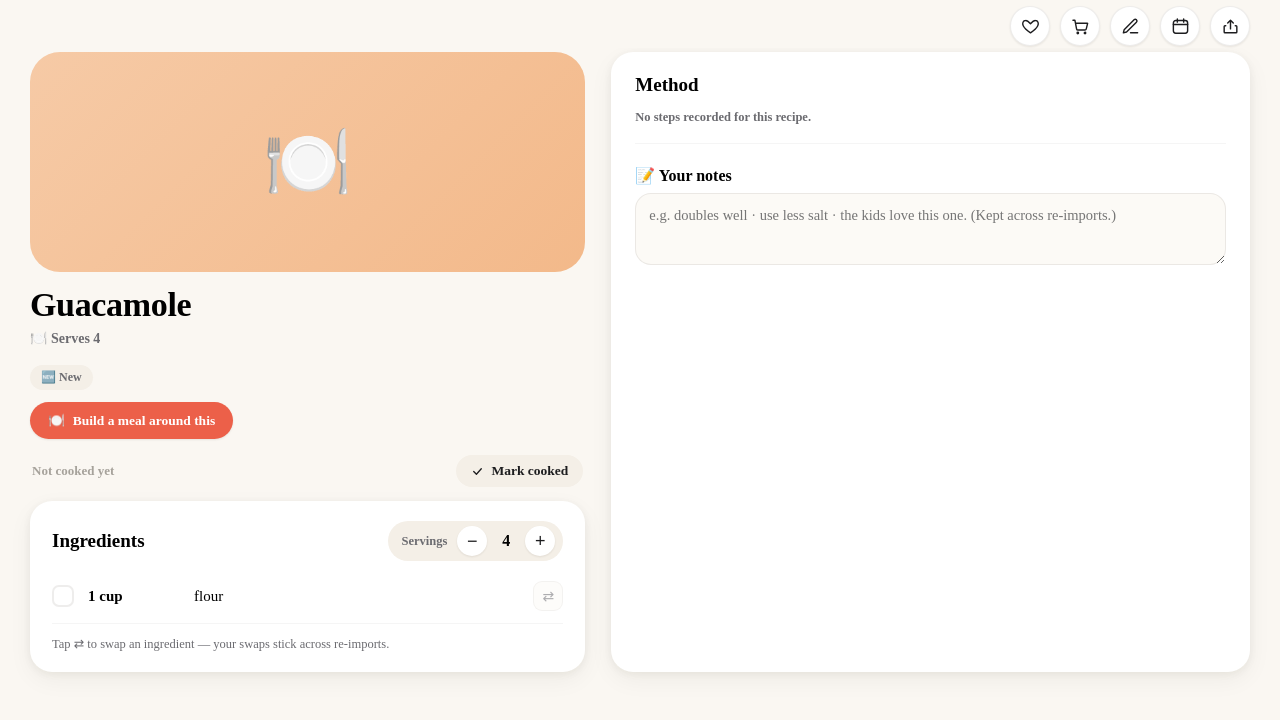
RecipeView — add ingredients to grocery › shows amounts scaled by the servings stepper, matching the page behind it
Step 1. Click the button named "More" → (540, 541), box [525,526,555,556]
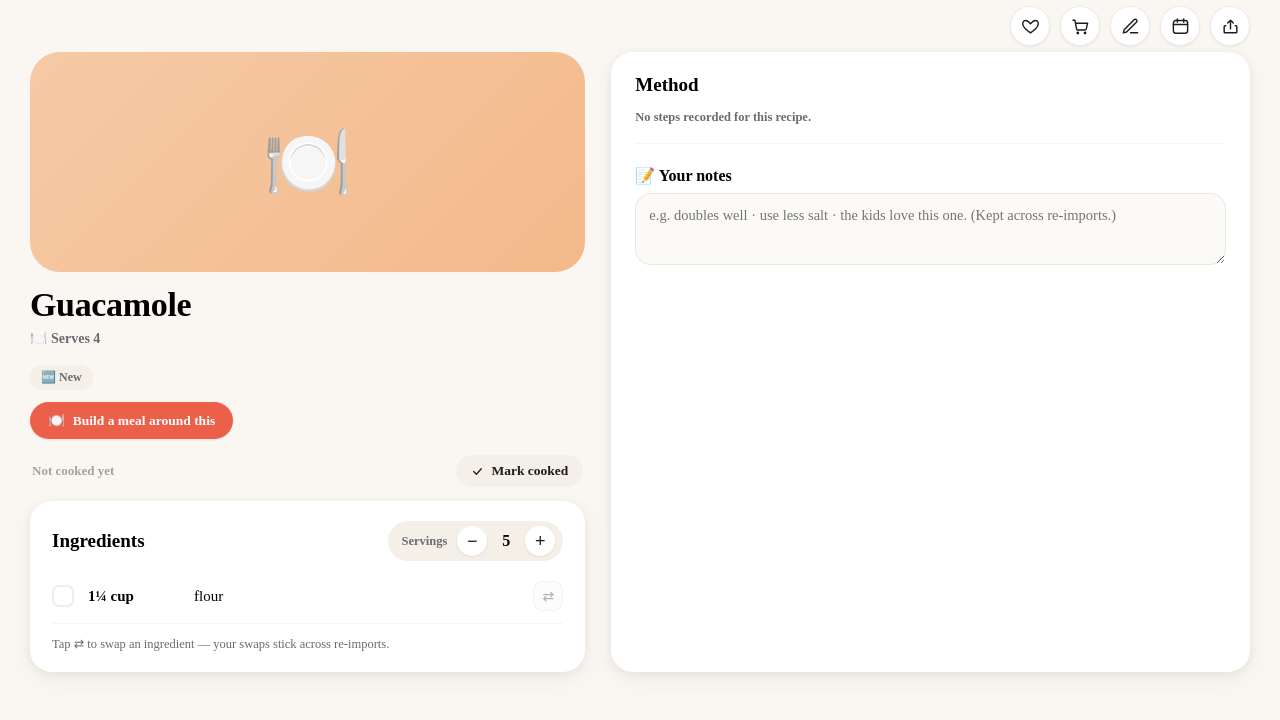
Step 2. Click the button named "More" → (540, 541), box [525,526,555,556]
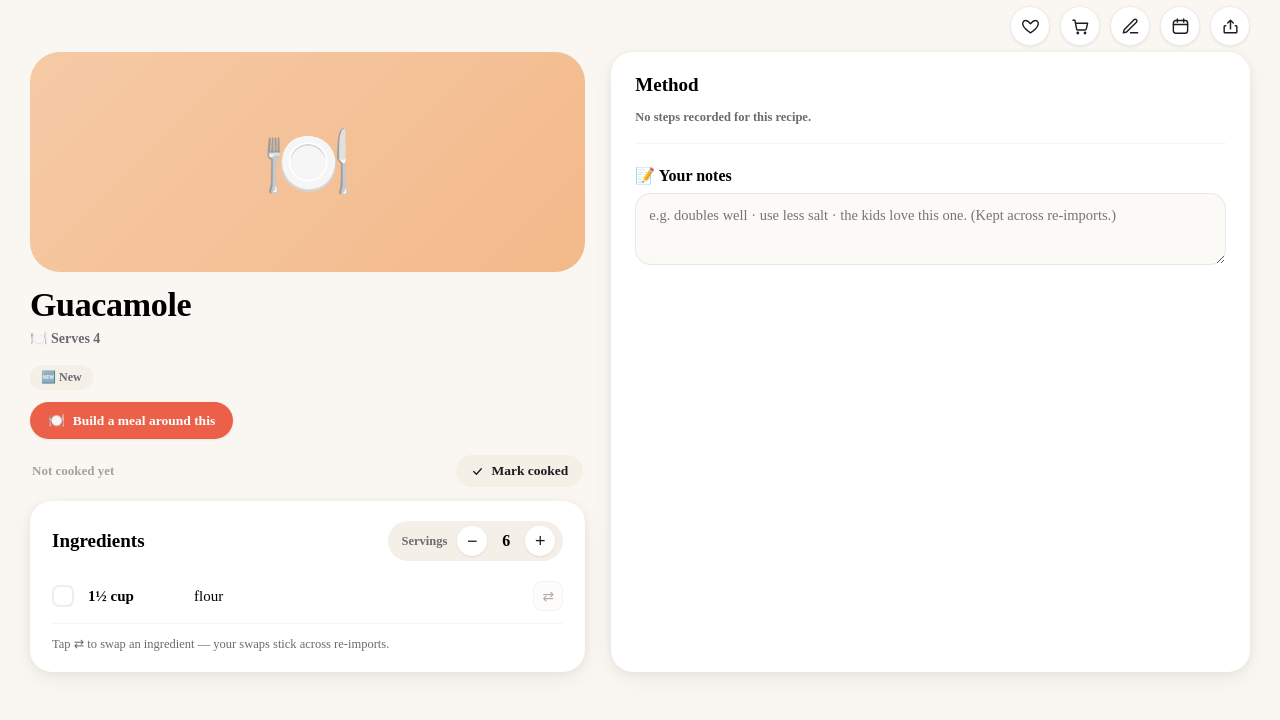
Step 3. Click the button named "More" → (540, 541), box [525,526,555,556]
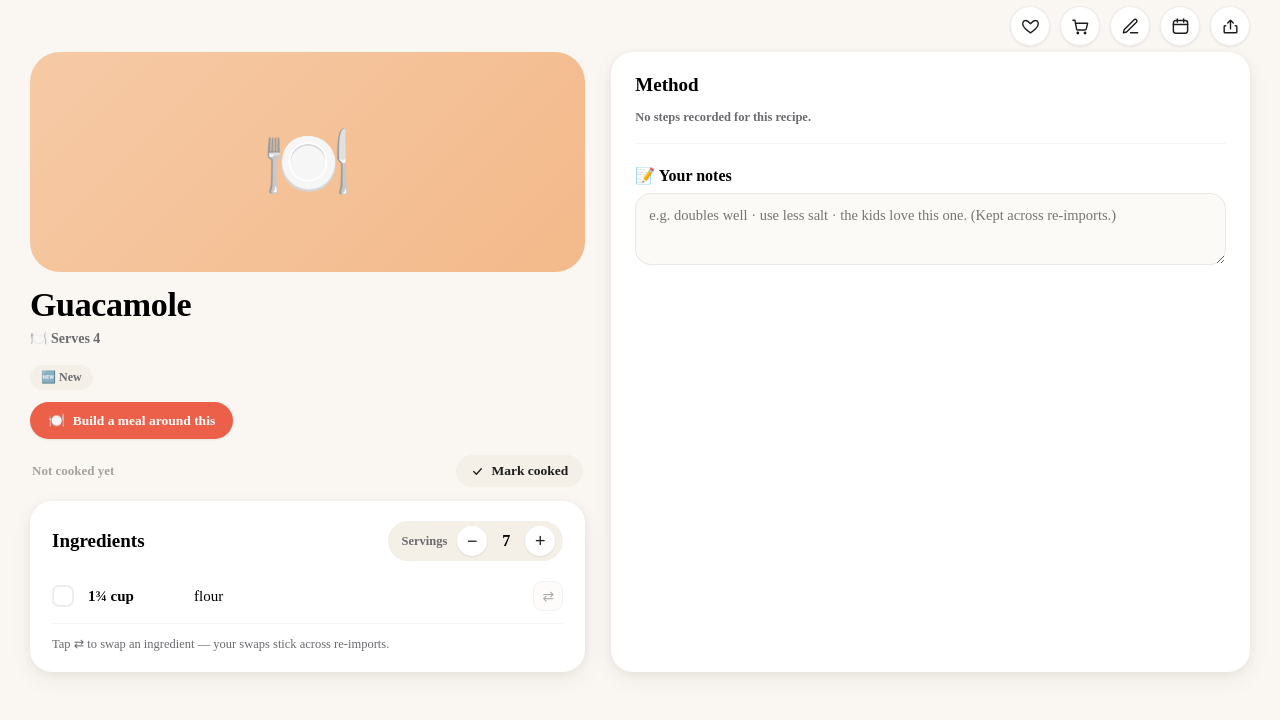
Step 4. Click the button named "More" → (540, 541), box [525,526,555,556]
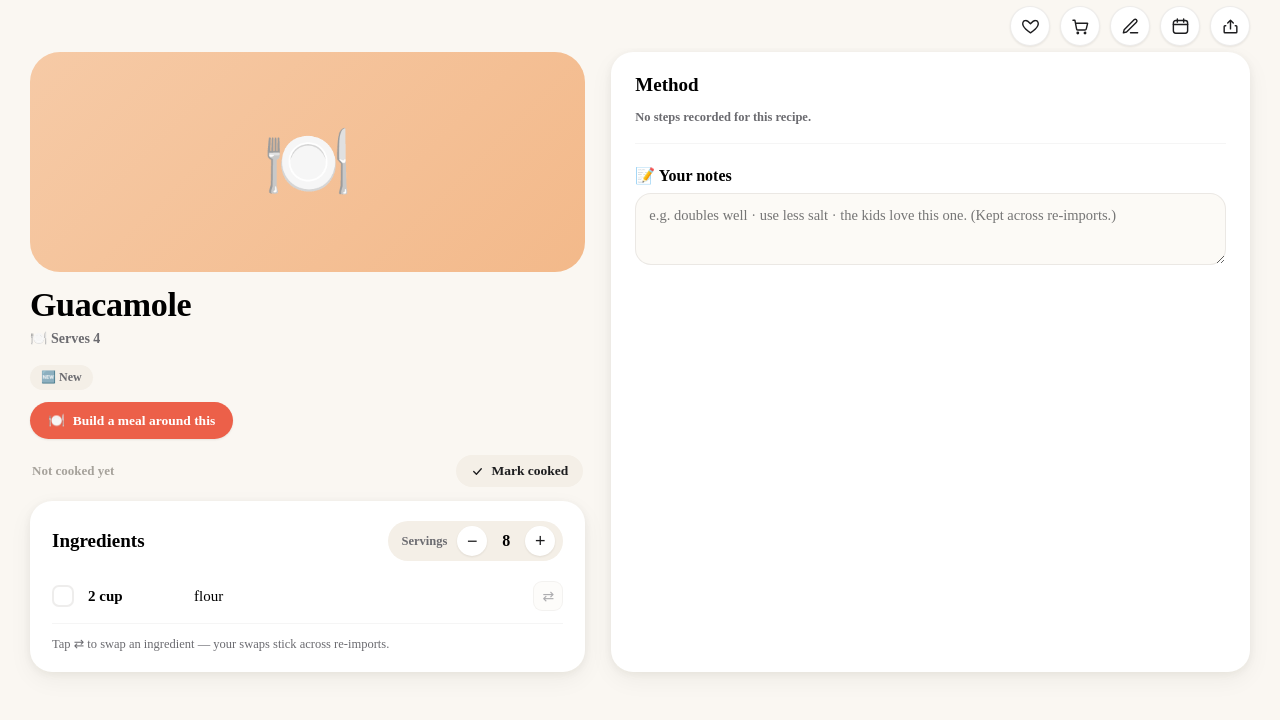
Step 5. Click the button named "Add to grocery" → (1080, 26), box [1060,6,1100,46]
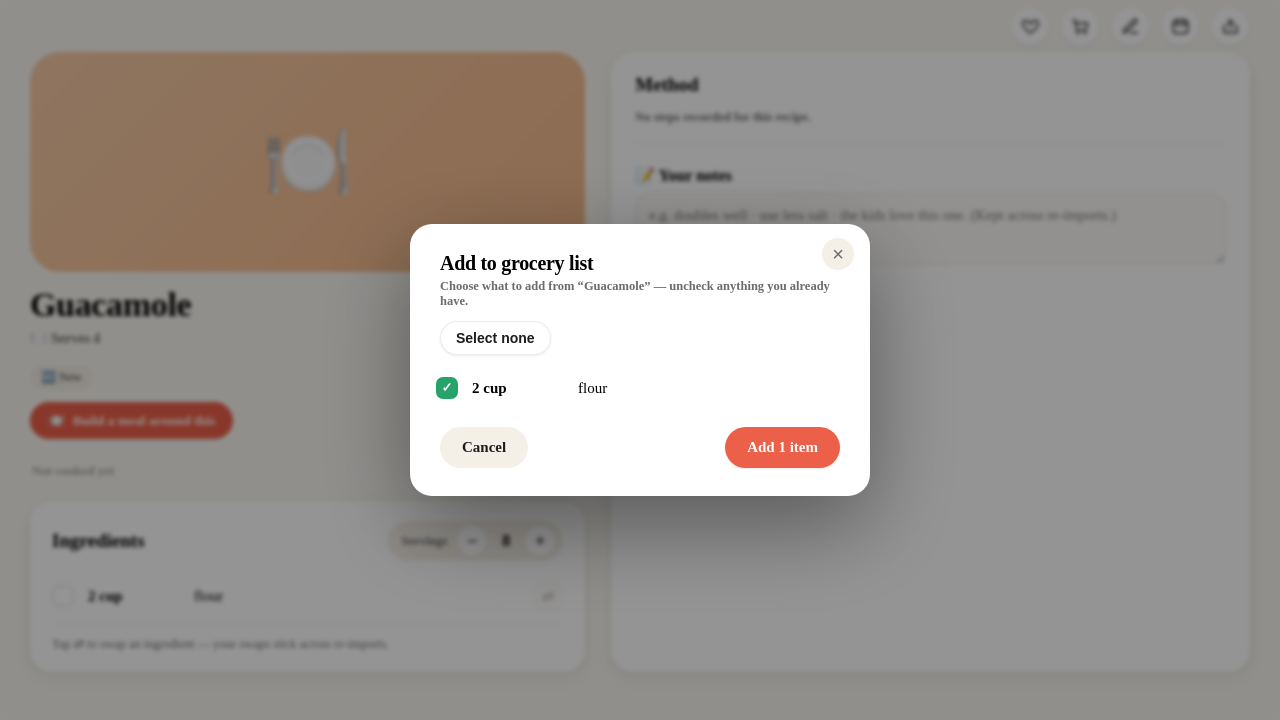
Expected: the button "✓ 2 cup flour" is shown, [436,377,607,399]
